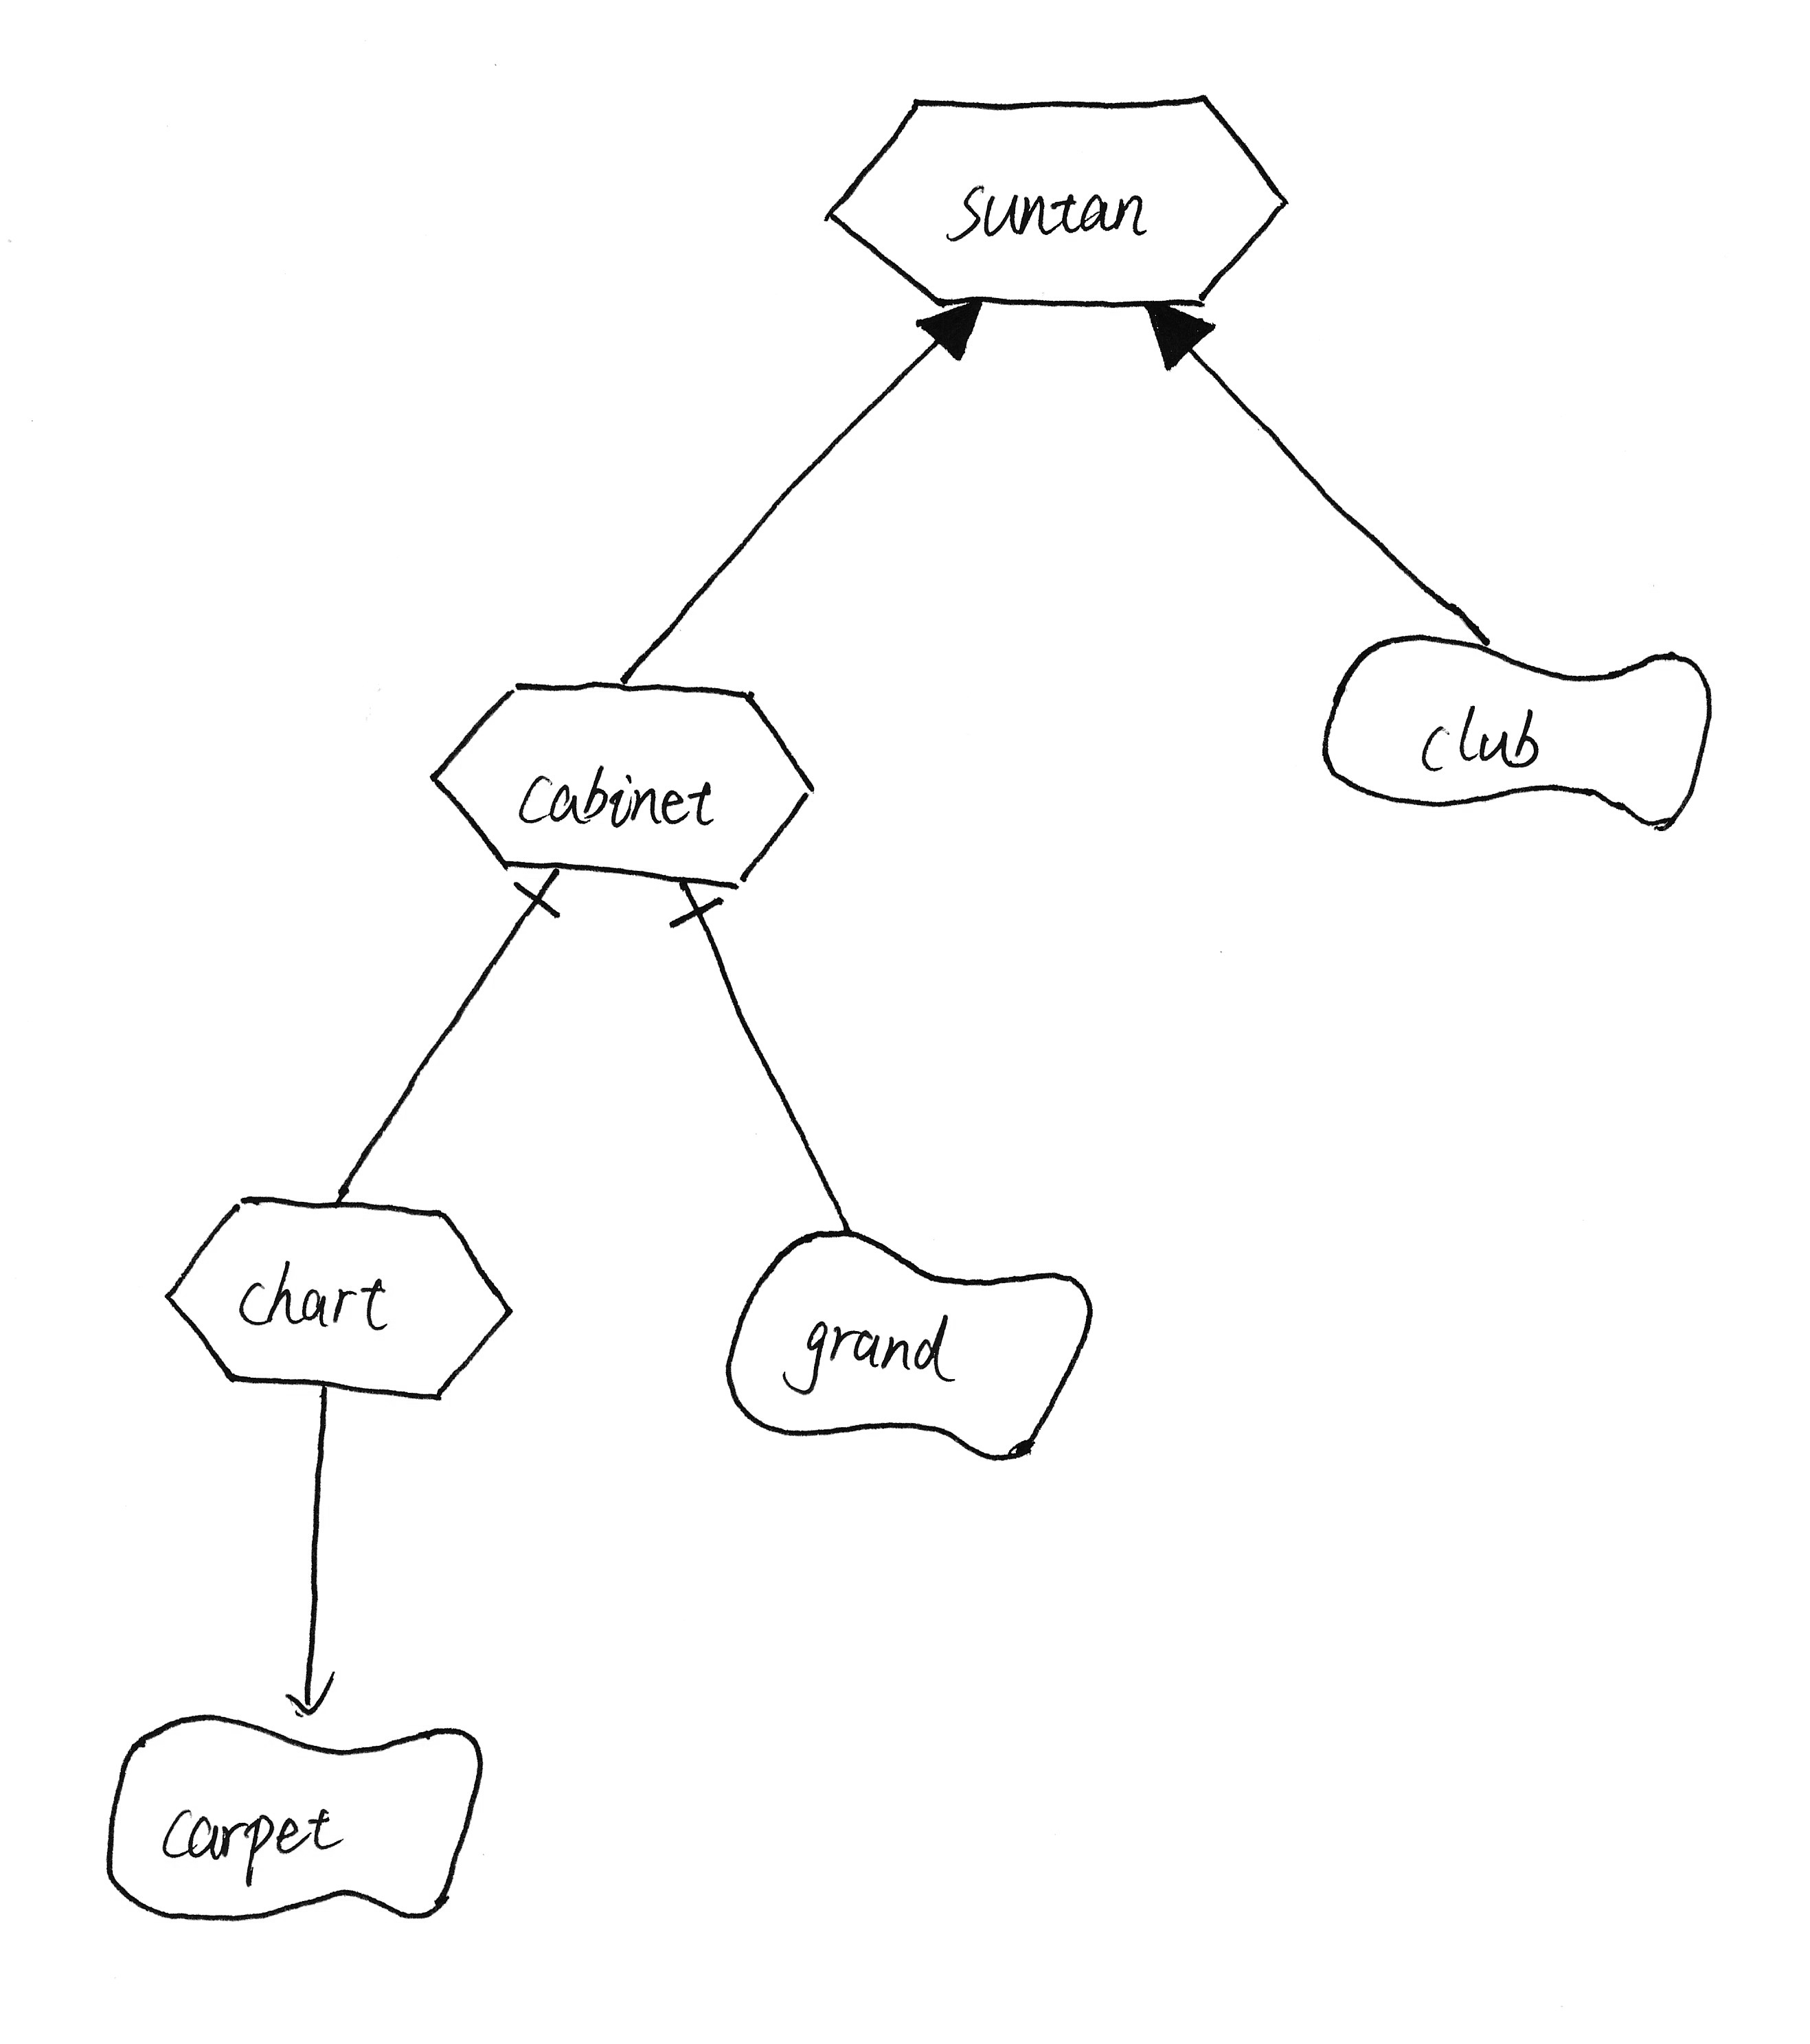and: (494, 860, 585, 959), (659, 877, 739, 950)
arrow: (267, 1667, 370, 1740)
or: (877, 297, 1010, 390), (1127, 297, 1235, 391)
quality: (82, 1695, 498, 1955), (713, 1218, 1108, 1480), (1312, 618, 1730, 851)
task: (795, 70, 1302, 328), (412, 662, 826, 901), (145, 1179, 529, 1426)
